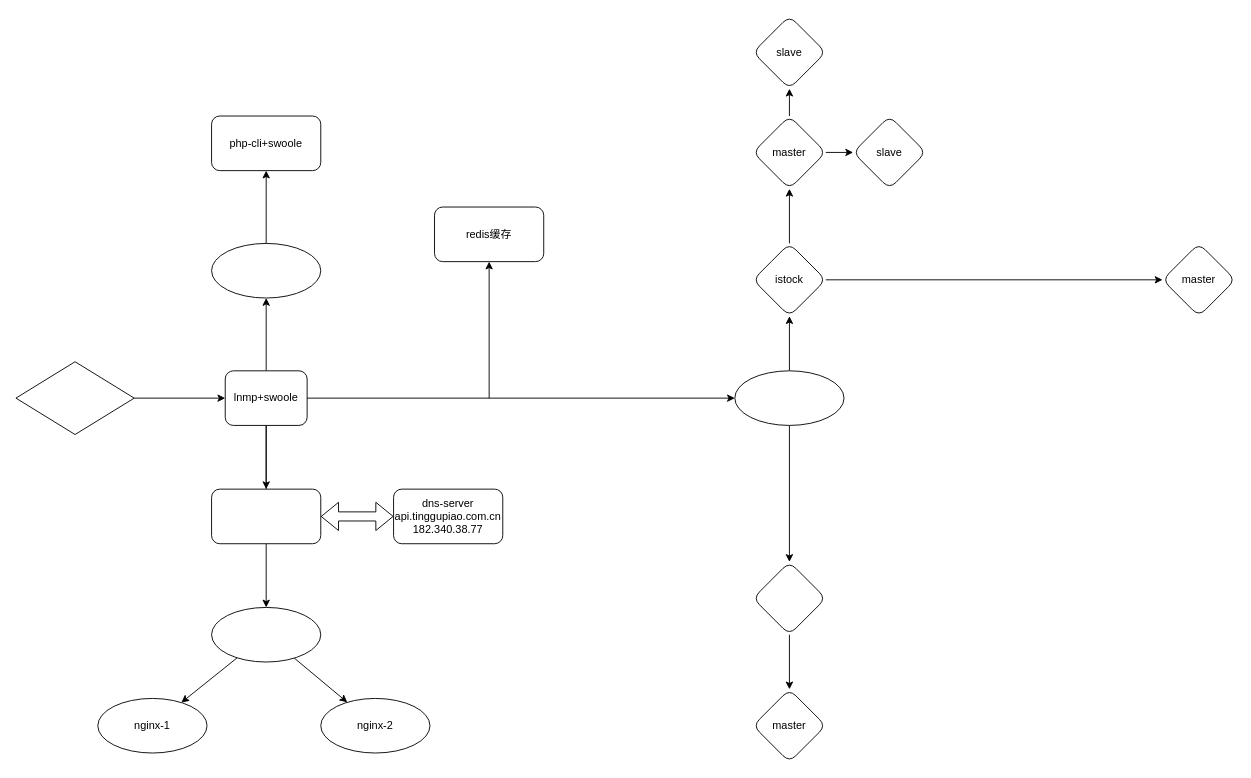
Some shapes in this 1251 by 778 pixel diagram are drawn without their labels. Here are the shapes that lost their labels. From the top down, the centre of each, then its label:
(266,270): laravels
(74,398): 听股票server端
(789,397): mysql
(266,516): DNS
(789,598): crm后台管理系统
(266,634): nginx代理服务器
